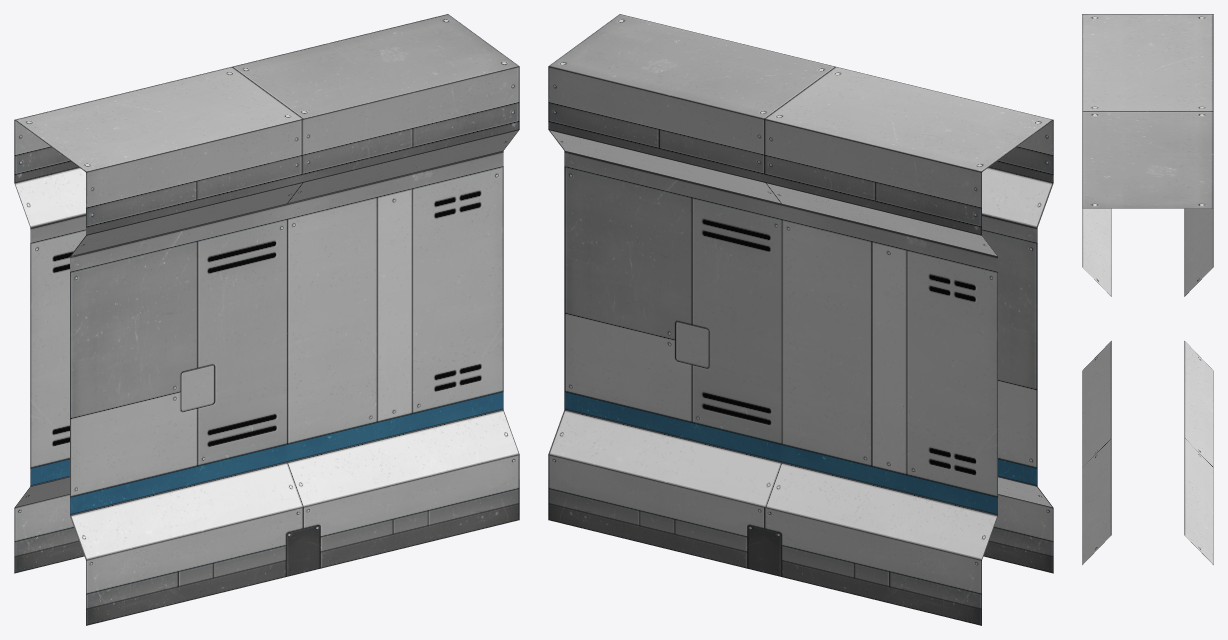
The model's file is Wall_Short_02.FBX.
3 views of the same model, side by side, from view 1: azimuth 30°, elevation 25°; view 2: azimuth 150°, elevation 25°; view 3: azimuth 270°, elevation 25° (orthographic). The views are drawn at different scales.
Parts seen in each view (by area): view 1: Wall_Short_02; view 2: Wall_Short_02; view 3: Wall_Short_02.
Boxes of the visible parts, x1,y1,x2,y2 form: Wall_Short_02: (14, 14, 519, 625); Wall_Short_02: (548, 14, 1053, 625); Wall_Short_02: (1082, 14, 1213, 564).
Bounding box in the file's own units: 140 × 140 × 40.02.
